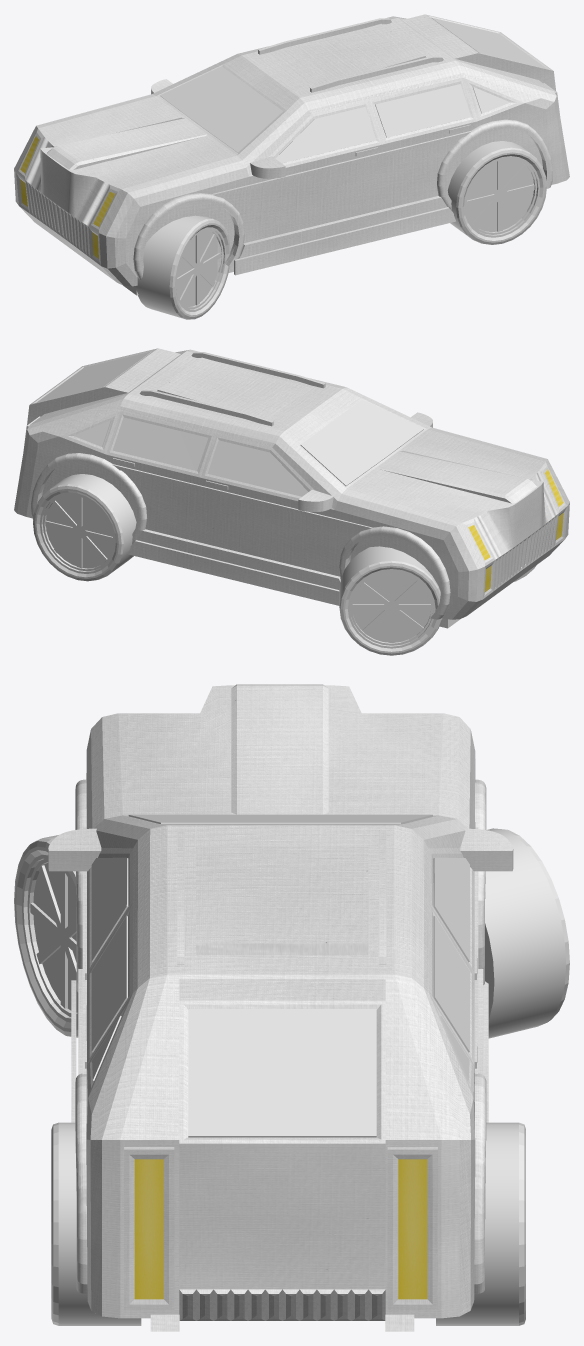
3 views of the same model, one above another, from view 1: azimuth 30°, elevation 25°; view 2: azimuth 150°, elevation 25°; view 3: azimuth 270°, elevation 25° (orthographic). The views are drawn at different scales.
Parts seen in each view (by area): view 1: Line001, Group009, Line006, Line007, Group002, Group001; view 2: Line001, Group009, Line008, Line009, Group004, Group003; view 3: Line001, Group009, Line009, Line008, Line006, Line007, Group001.
Boxes of the visible parts, bbox=[...] form: Line001: bbox=[14, 14, 569, 295]; Group009: bbox=[20, 17, 546, 258]; Line006: bbox=[135, 215, 230, 319]; Line007: bbox=[447, 141, 546, 244]; Group002: bbox=[467, 159, 533, 232]; Group001: bbox=[177, 230, 217, 306]; Line001: bbox=[14, 348, 569, 628]; Group009: bbox=[37, 351, 563, 592]; Line008: bbox=[33, 474, 136, 581]; Line009: bbox=[339, 546, 442, 655]; Group004: bbox=[352, 572, 430, 642]; Group003: bbox=[46, 495, 112, 568]; Line001: bbox=[48, 684, 513, 1331]; Group009: bbox=[91, 814, 469, 1299]; Line009: bbox=[485, 828, 569, 1038]; Line008: bbox=[436, 1122, 525, 1325]; Line006: bbox=[14, 835, 78, 1037]; Line007: bbox=[51, 1122, 141, 1325]; Group001: bbox=[33, 863, 78, 1012].
Bounding box in the file's own units: 2.66 × 0.9118 × 1.36.
Materials: 2 (2 with a texture image).
